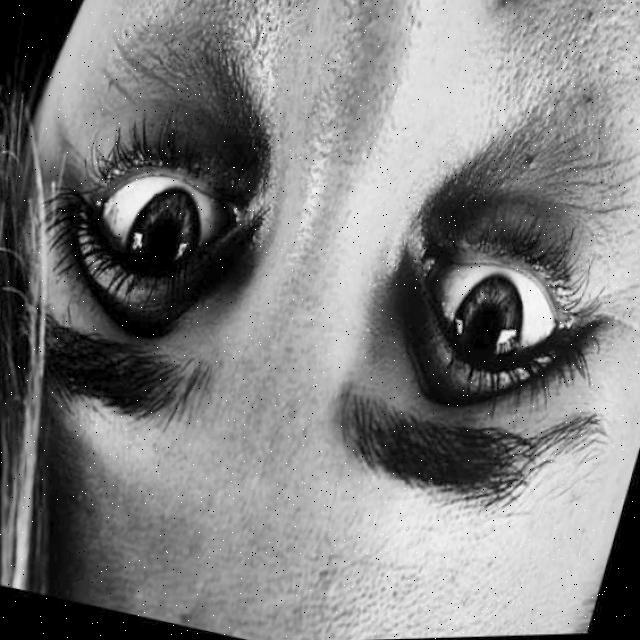puffy_eyes: (412, 134, 606, 316), (73, 34, 264, 199)
